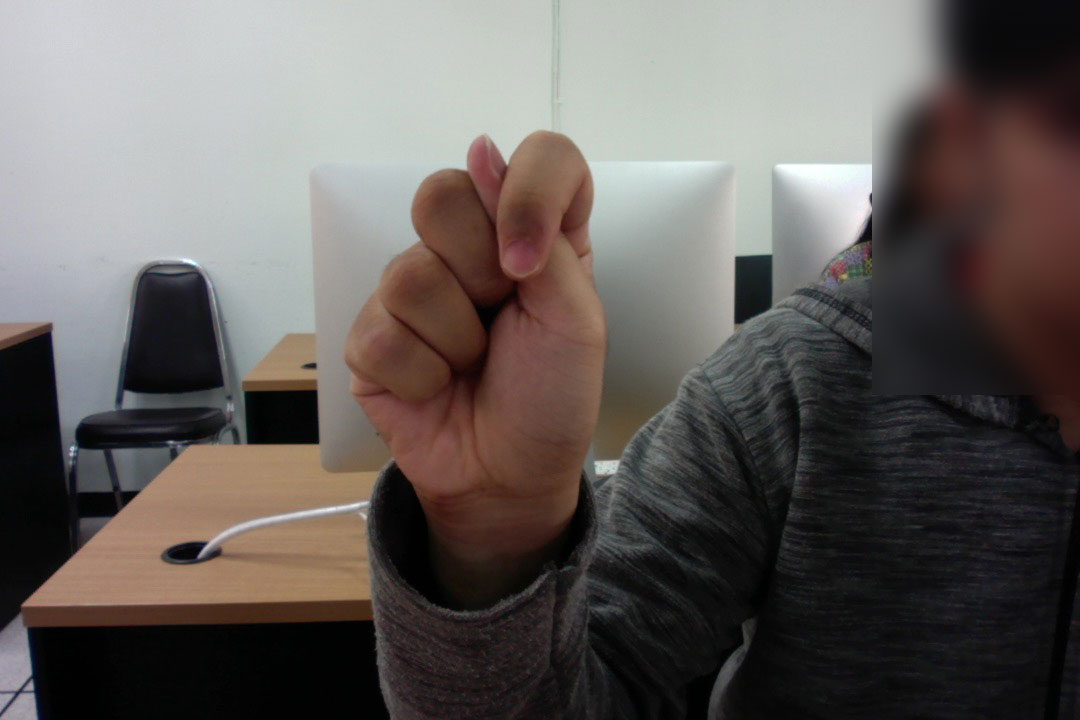tor: (340, 128, 608, 527)
